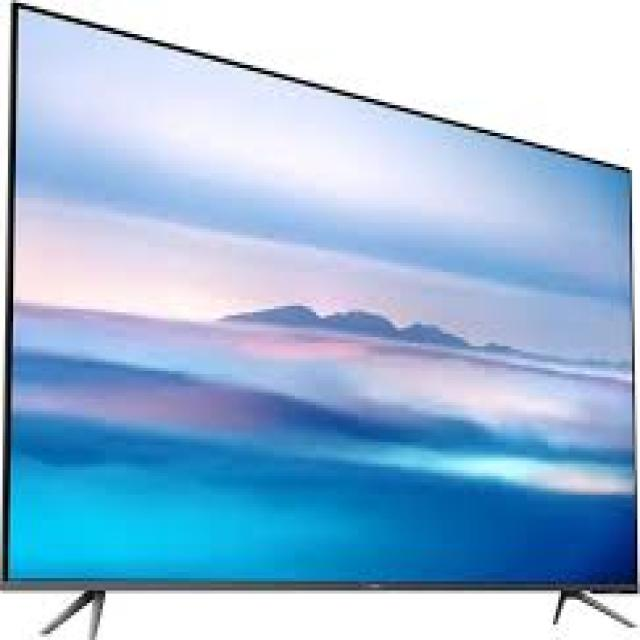tv: (2, 6, 640, 627)
